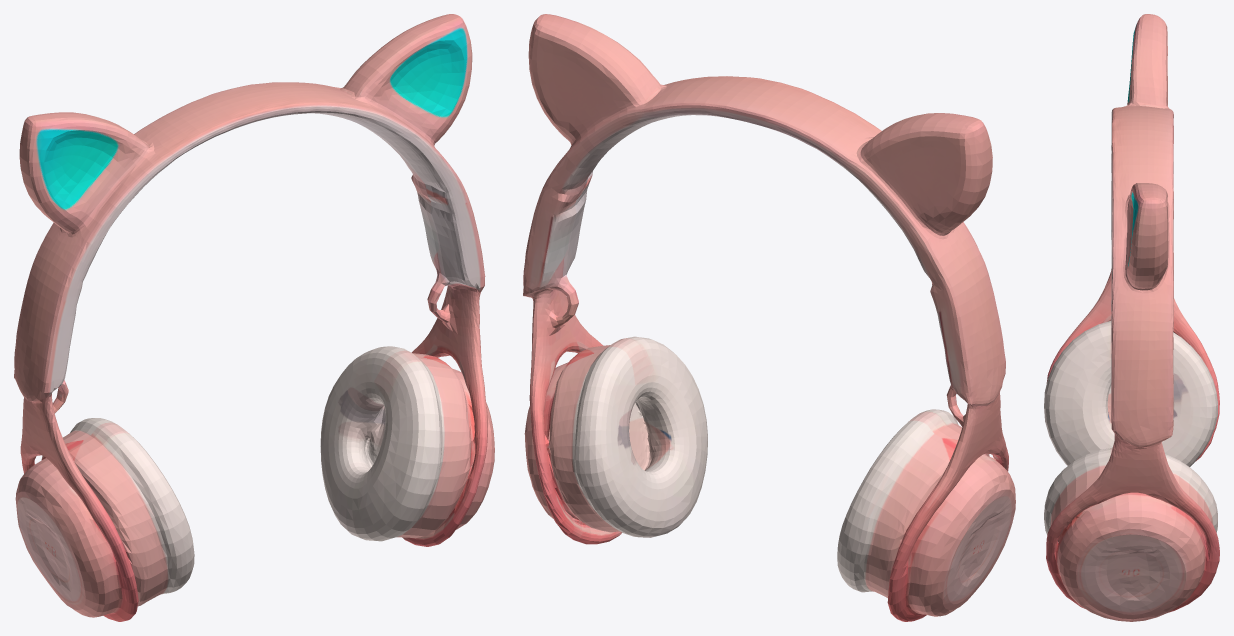
Rendered from headphone_scaled.glb.
The picture shows the model from 3 angles, left to right: view 1: azimuth 30°, elevation 25°; view 2: azimuth 150°, elevation 25°; view 3: azimuth 270°, elevation 25°; orthographic projection. The views are drawn at different scales.
Visible parts, largest first — view 1: model; view 2: model; view 3: model.
Boxes of the visible parts, bbox=[...] form: model: bbox=[14, 14, 494, 621]; model: bbox=[523, 14, 1015, 621]; model: bbox=[1044, 14, 1219, 621].
Size of the model in its own units: 0.2828 by 0.3026 by 0.1084.
1 material, 1 textured.
